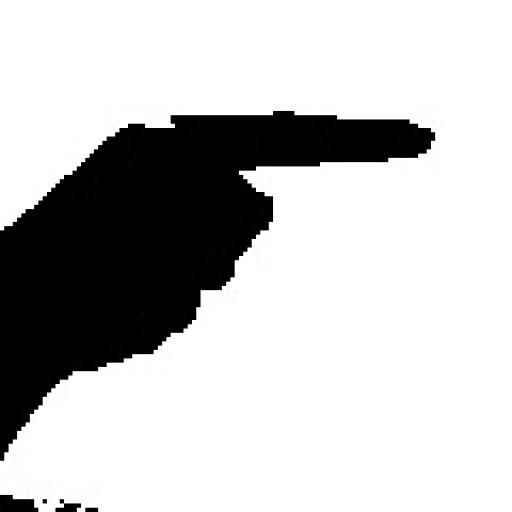index_right: (0, 106, 434, 334)
